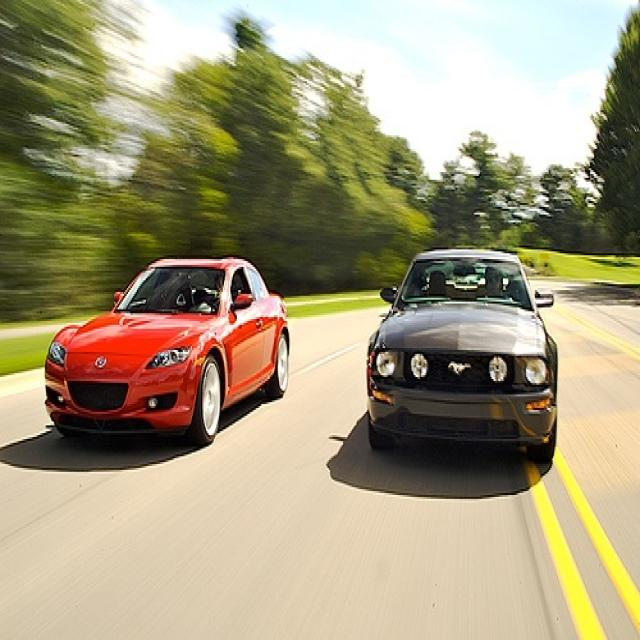car: (40, 254, 292, 451), (362, 242, 562, 468)
